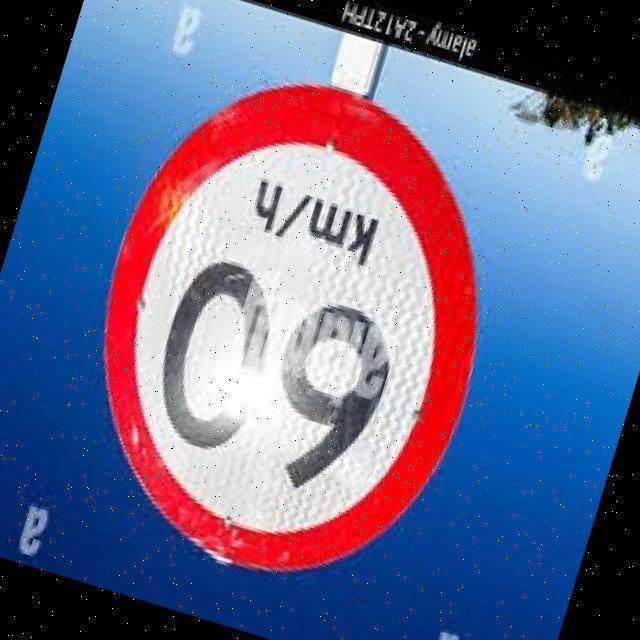speed_limit_60: (34, 36, 546, 629)
